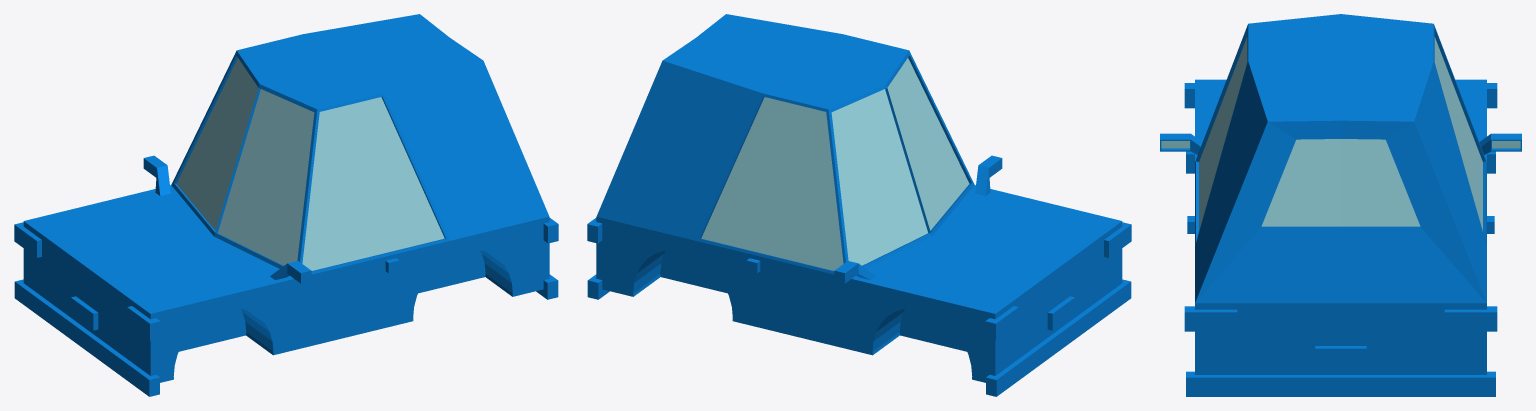
File: Car.fbx
3 views of the same model, side by side, from view 1: azimuth 30°, elevation 25°; view 2: azimuth 150°, elevation 25°; view 3: azimuth 270°, elevation 25° (orthographic). The views are drawn at different scales.
Parts seen in each view (by area): view 1: Car; view 2: Car; view 3: Car.
Part boxes in pixels (box(x1,y1,x2,y2)): Car: box(14, 14, 558, 396); Car: box(587, 14, 1131, 396); Car: box(1160, 14, 1521, 396).
Size of the model in its own units: 335 by 173 by 224.
